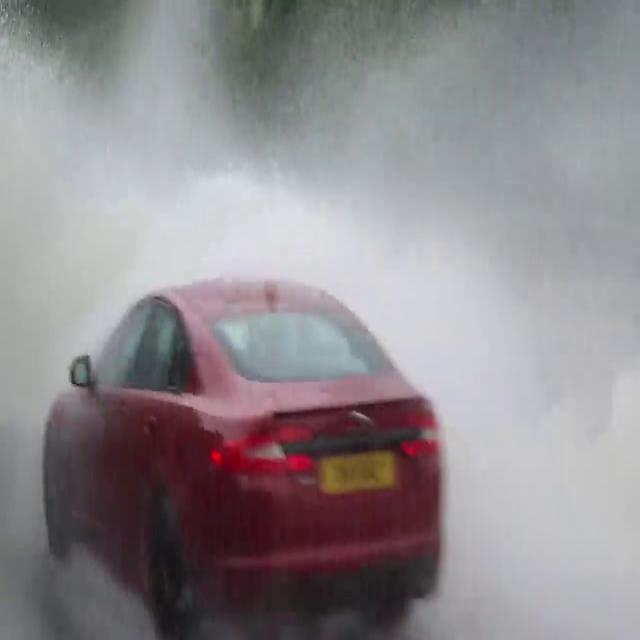license-plate-annotation: (315, 444, 398, 492)
